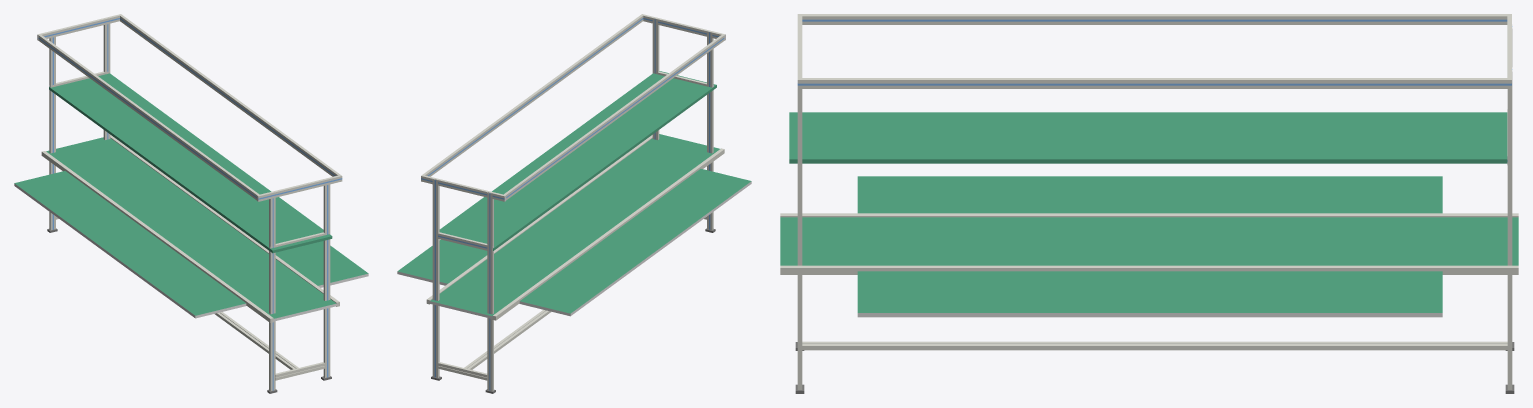
File: workbench.glb
The picture shows the model from 3 angles, left to right: view 1: azimuth 30°, elevation 25°; view 2: azimuth 150°, elevation 25°; view 3: azimuth 270°, elevation 25°; orthographic projection. The views are drawn at different scales.
Visible parts, largest first — view 1: 立方体.7-材质.2, 立方体.10, 立方体.19-材质.2, 立方体.18-材质.2, 立方体.16-材质.1, 立方体.17-材质.1, 立方体.12, 立方体.26-材质.1, 立方体.28-材质.1, 立方体.11, 立方体.19, 立方体-材质.1 (+8 smaller); view 2: 立方体.7-材质.2, 立方体.10, 立方体.19-材质.2, 立方体.18-材质.2, 立方体.16-材质.1, 立方体.17-材质.1, 立方体.12, 立方体-材质.1, 立方体.13-材质.1, 立方体.11, 立方体.26-材质.1, 立方体.19 (+9 smaller); view 3: 立方体.10, 立方体.7-材质.2, 立方体.18-材质.2, 立方体.19-材质.2, 立方体.17-材质.1, 立方体.16-材质.1, 立方体.11, 立方体.6, 立方体.12, 立方体.18, 立方体.17-材质.2, 立方体.5 (+3 smaller).
Part boxes in pixels (<box>): 立方体.7-材质.2: <box>46,137,335,318</box>; 立方体.10: <box>49,73,332,253</box>; 立方体.19-材质.2: <box>14,171,245,315</box>; 立方体.18-材质.2: <box>275,241,368,285</box>; 立方体.16-材质.1: <box>39,35,260,200</box>; 立方体.17-材质.1: <box>119,15,341,176</box>; 立方体.12: <box>41,151,273,322</box>; 立方体.26-材质.1: <box>269,198,275,391</box>; 立方体.28-材质.1: <box>323,184,330,377</box>; 立方体.11: <box>110,135,339,306</box>; 立方体.19: <box>14,183,246,318</box>; 立方体-材质.1: <box>49,37,55,230</box>; 立方体.7-材质.2: <box>430,134,719,316</box>; 立方体.10: <box>439,71,716,250</box>; 立方体.19-材质.2: <box>520,168,751,313</box>; 立方体.18-材质.2: <box>397,239,487,283</box>; 立方体.16-材质.1: <box>502,34,724,199</box>; 立方体.17-材质.1: <box>421,14,643,176</box>; 立方体.12: <box>492,148,724,320</box>; 立方体-材质.1: <box>487,193,493,391</box>; 立方体.13-材质.1: <box>432,179,439,377</box>; 立方体.11: <box>426,135,652,304</box>; 立方体.26-材质.1: <box>707,32,713,230</box>; 立方体.19: <box>519,181,751,316</box>; 立方体.10: <box>789,112,1507,163</box>; 立方体.7-材质.2: <box>780,217,1518,265</box>; 立方体.18-材质.2: <box>857,271,1442,312</box>; 立方体.19-材质.2: <box>857,176,1442,213</box>; 立方体.17-材质.1: <box>798,78,1511,88</box>; 立方体.16-材质.1: <box>802,14,1507,24</box>; 立方体.11: <box>780,265,1518,274</box>; 立方体.6: <box>802,344,1507,350</box>; 立方体.12: <box>780,213,1518,217</box>; 立方体.18: <box>857,313,1442,317</box>; 立方体.17-材质.2: <box>798,83,1511,85</box>; 立方体.5: <box>802,341,1507,343</box>.
Bounding box in the file's own units: 76.59 × 84.35 × 175.
